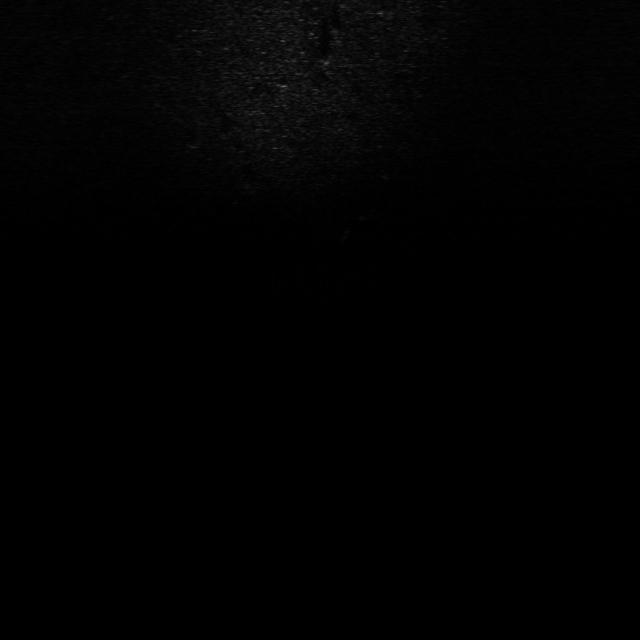human body: (337, 204, 379, 248)
